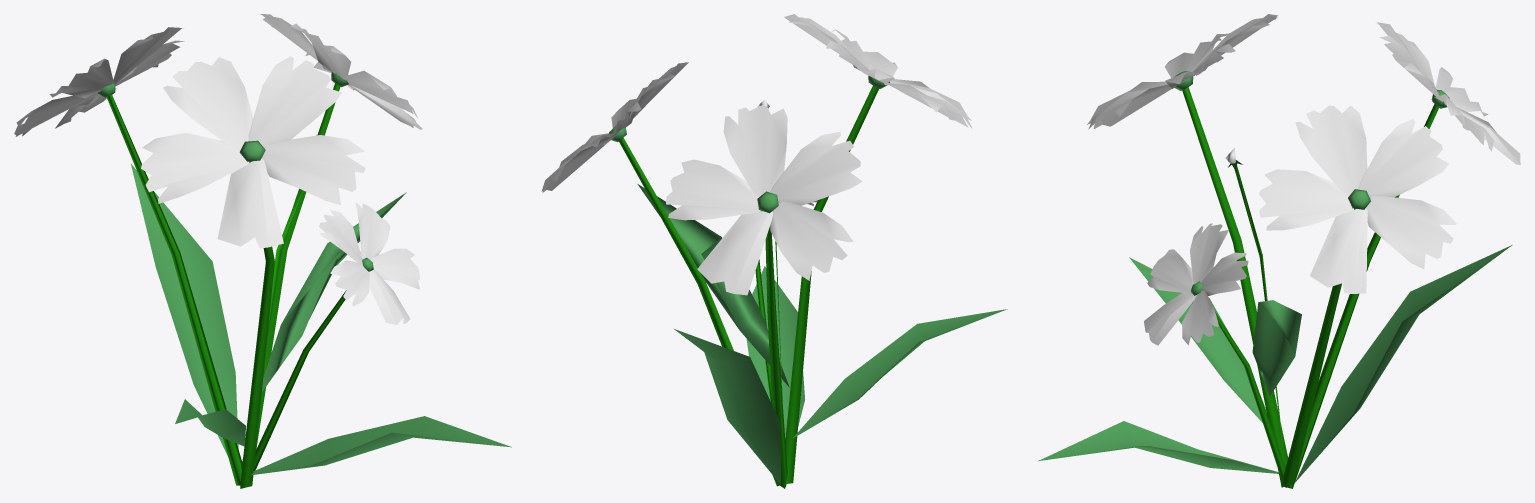
The model's file is fleur 3test.fbx.
3 views of the same model, side by side, from view 1: azimuth 30°, elevation 25°; view 2: azimuth 150°, elevation 25°; view 3: azimuth 270°, elevation 25° (orthographic).
Visible parts, largest first — view 1: Circle.008; view 2: Circle.008; view 3: Circle.008.
Part boxes in pixels (box(x1,y1,x2,y2)): Circle.008: box(14, 14, 511, 488); Circle.008: box(541, 14, 1007, 488); Circle.008: box(1038, 14, 1520, 488).
Size of the model in its own units: 144 by 177 by 174.
